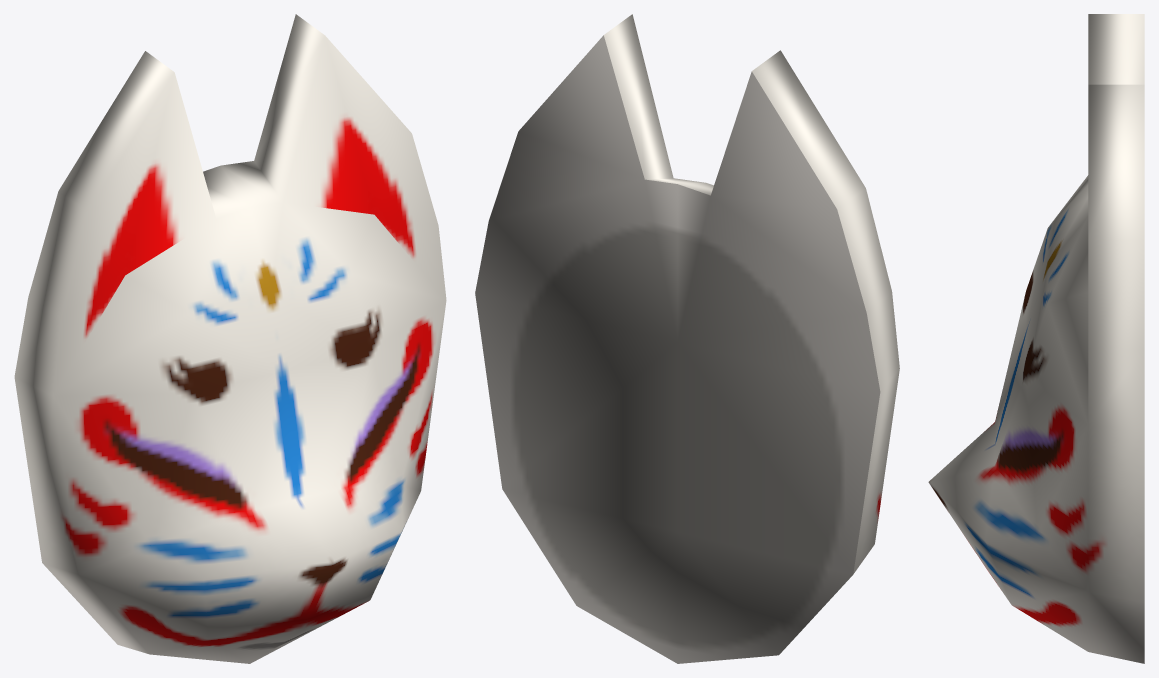
The model's file is foxmask.fbx.
3 renders of one model, left to right at view 1: azimuth 30°, elevation 25°; view 2: azimuth 150°, elevation 25°; view 3: azimuth 270°, elevation 25°, orthographic. The views are drawn at different scales.
Parts seen in each view (by area): view 1: foxmask; view 2: foxmask; view 3: foxmask.
Boxes of the visible parts, left/top/right/bottom form: foxmask: left=14, top=14, right=446, bottom=663; foxmask: left=475, top=14, right=899, bottom=663; foxmask: left=928, top=14, right=1144, bottom=663.
Size of the model in its own units: 28.37 by 40.86 by 13.38.
